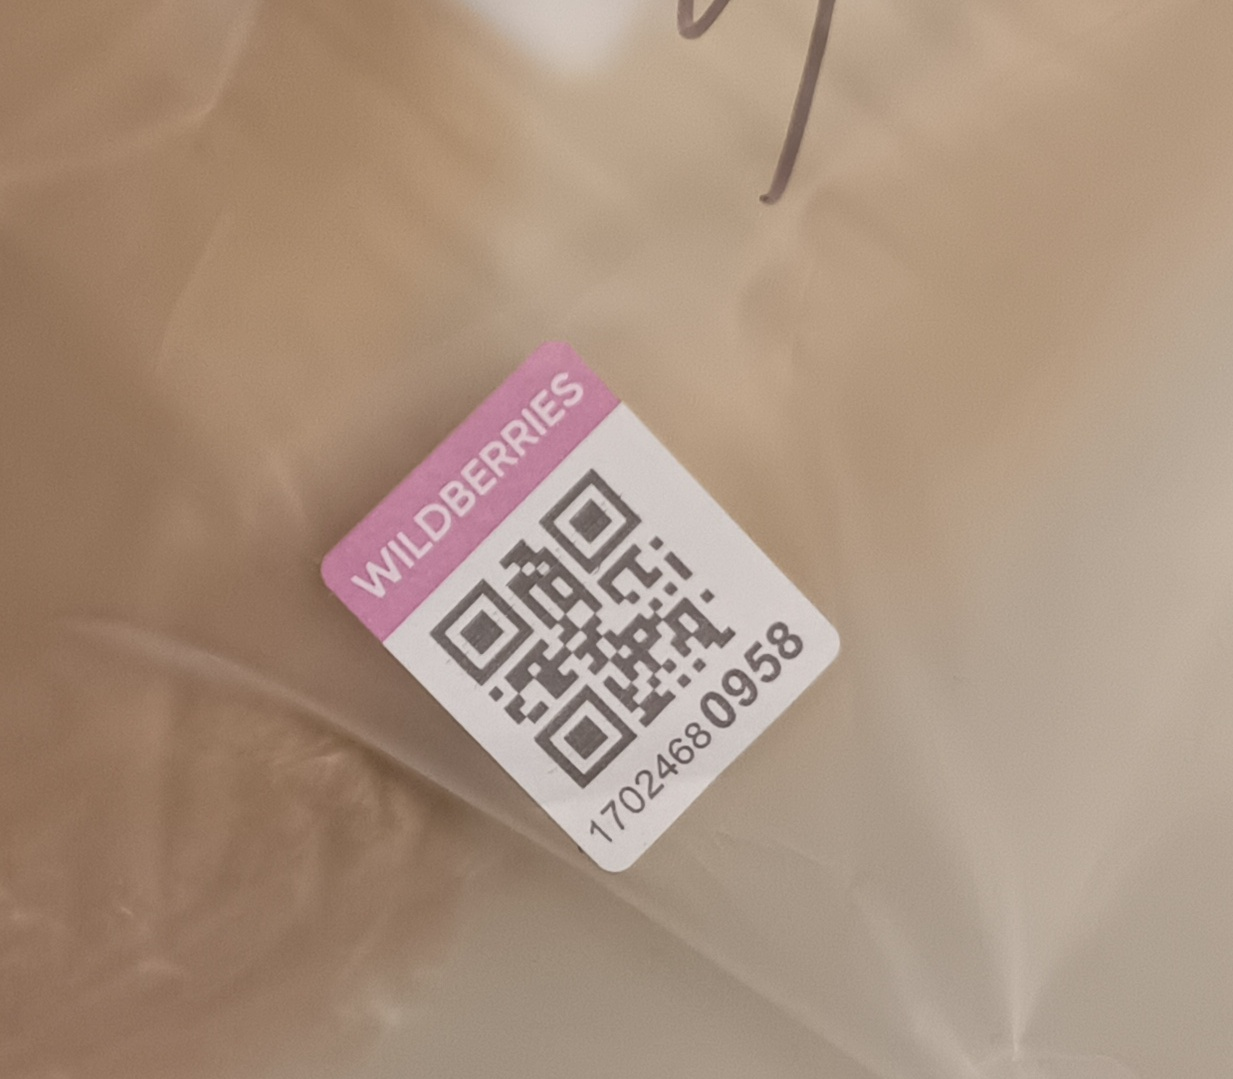2d: (424, 451, 755, 785)
